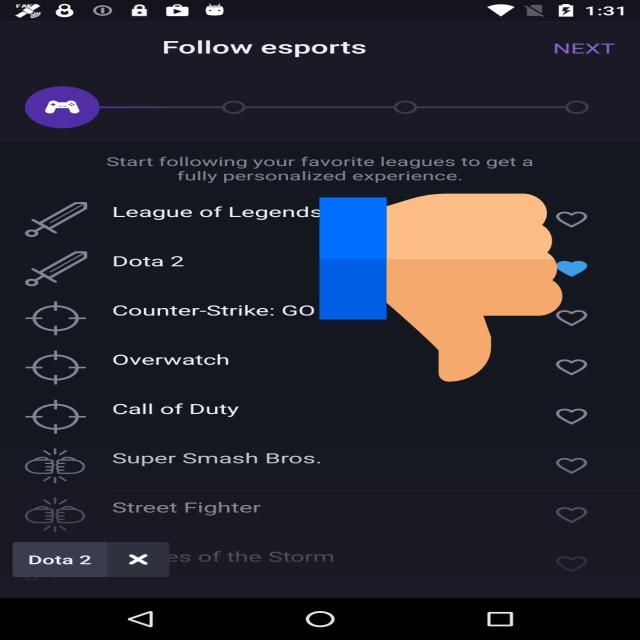obstruction: (320, 189, 562, 386)
